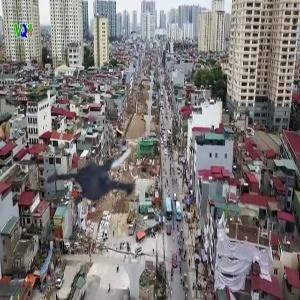drone: (41, 118, 161, 238)
